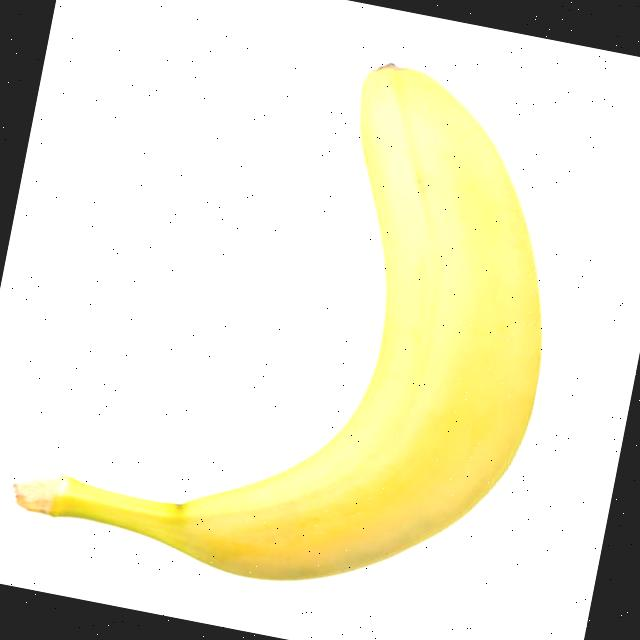Ripe: (36, 9, 598, 630)
